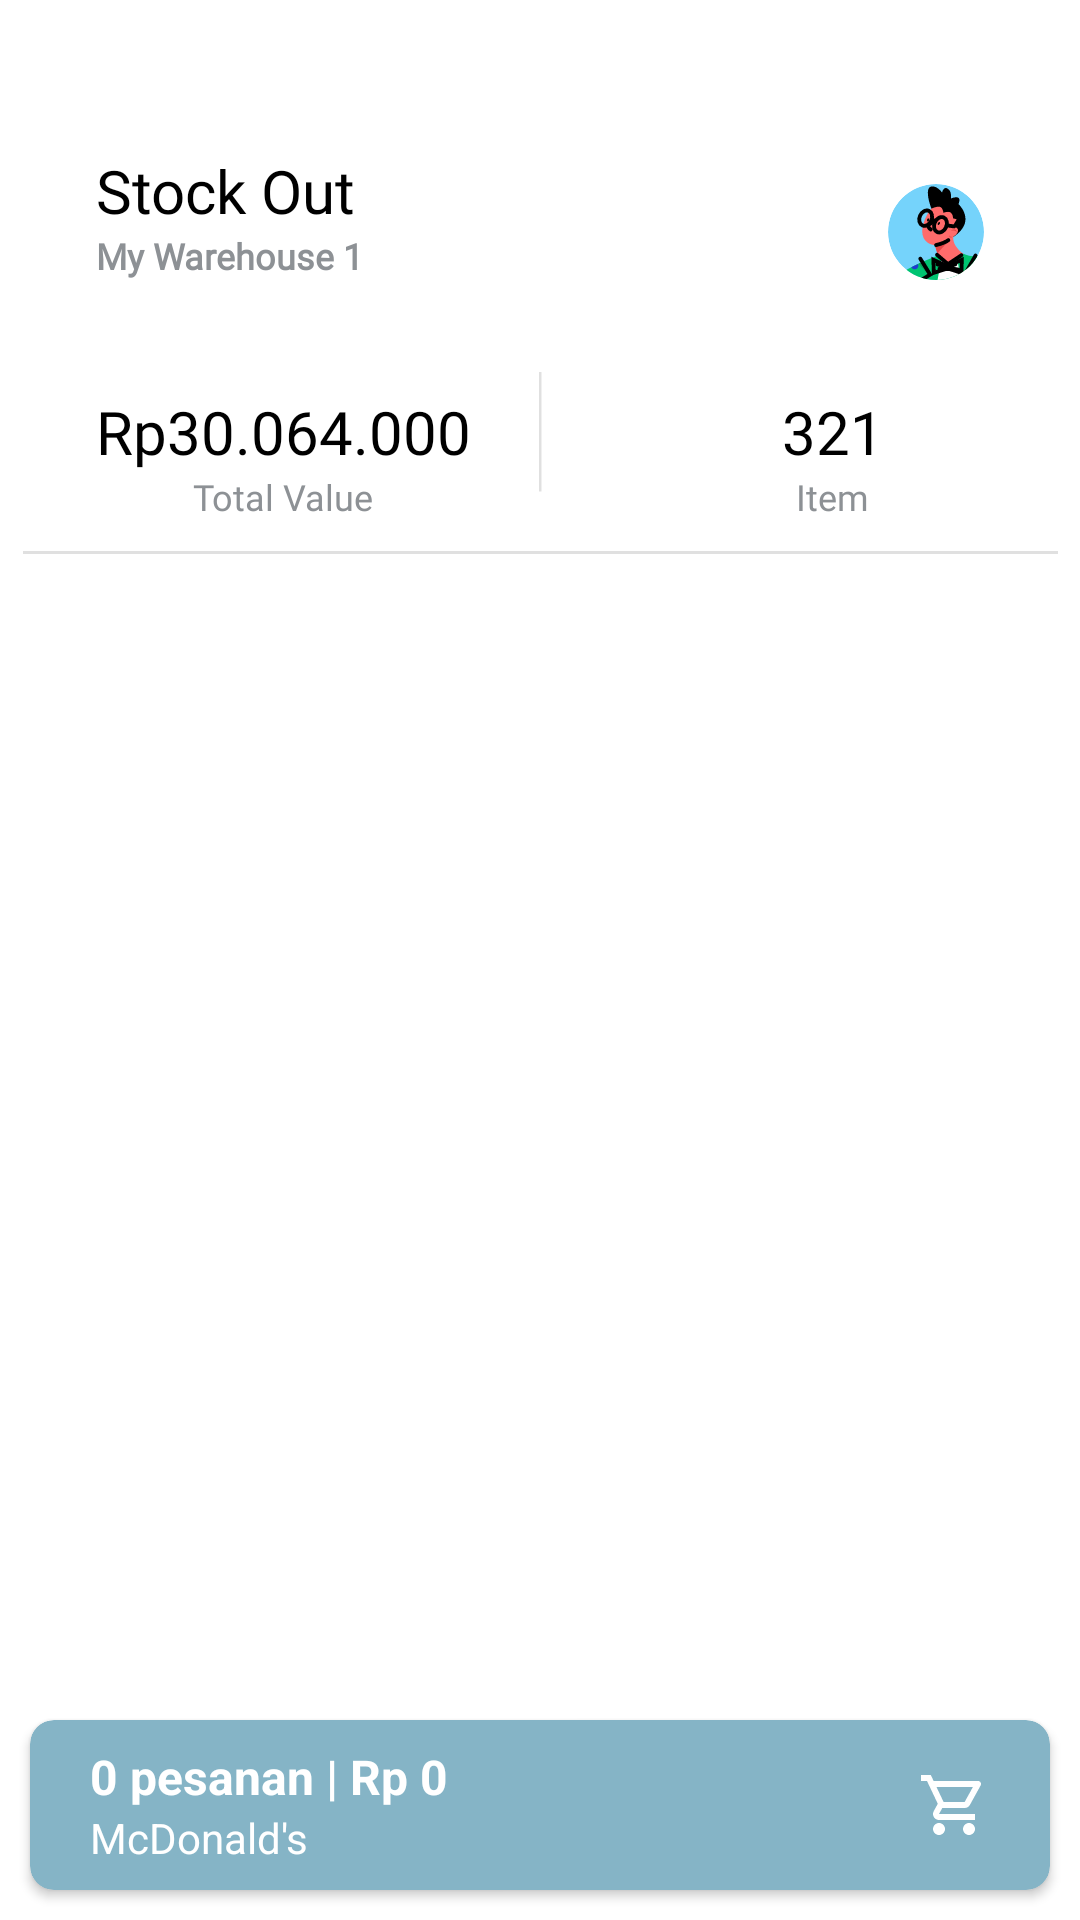

Icons on this 1080px×1920px Android screen, each with the point to tap as [x,y]:
cart: [951,1805]
profile: [936,232]
